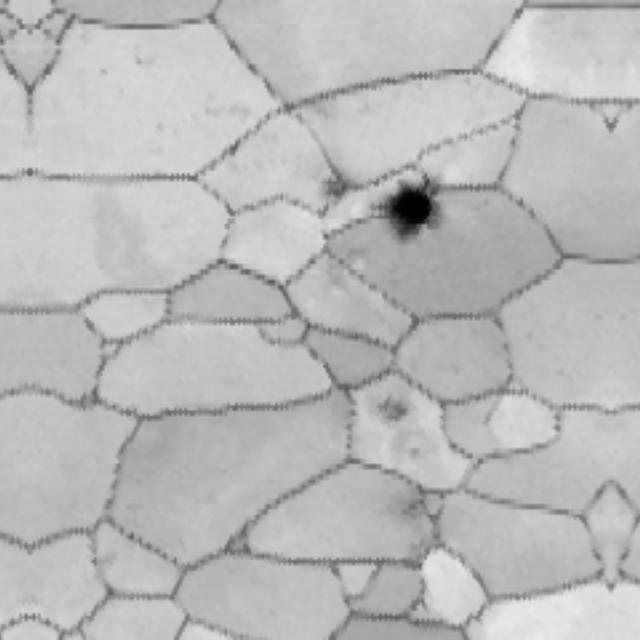good_void: (369, 167, 445, 249), (311, 171, 354, 203), (372, 396, 409, 430), (392, 492, 423, 523), (130, 50, 155, 67), (404, 443, 425, 460)
